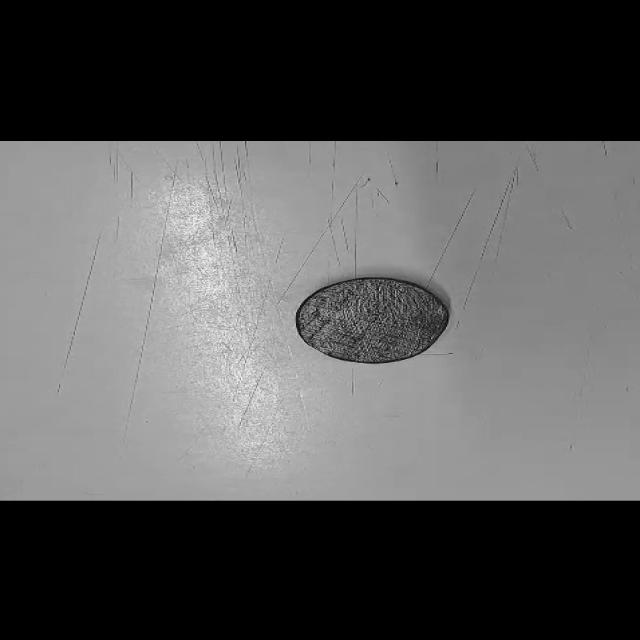rcircle: (296, 278, 449, 364)
